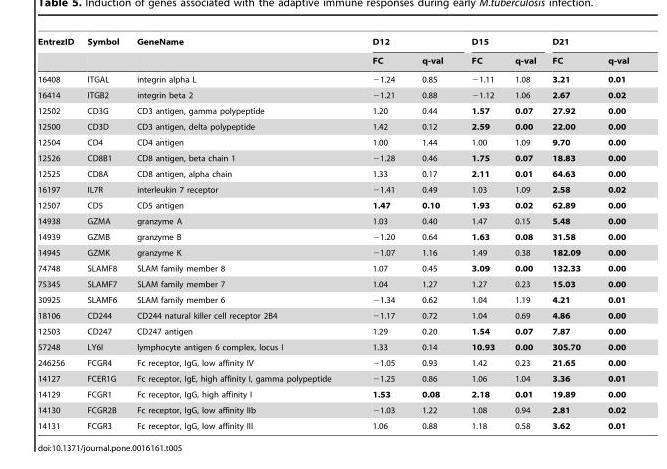table: (37, 37, 628, 430)
table column: (127, 37, 351, 430), (351, 37, 407, 430), (543, 37, 593, 430), (407, 37, 456, 430), (79, 37, 127, 430), (456, 37, 504, 430), (37, 37, 79, 430), (504, 37, 543, 430), (593, 37, 628, 430)
table column header: (37, 37, 628, 69)
table row: (37, 50, 628, 69), (37, 69, 628, 87), (37, 102, 628, 118), (37, 118, 628, 134), (37, 134, 628, 150), (37, 165, 628, 181), (37, 181, 628, 197), (37, 197, 628, 213), (37, 228, 628, 244), (37, 244, 628, 260), (37, 260, 628, 276), (37, 291, 628, 307), (37, 307, 628, 323), (37, 323, 628, 339), (37, 354, 628, 370), (37, 370, 628, 386), (37, 401, 628, 417), (37, 87, 628, 102), (37, 150, 628, 165), (37, 213, 628, 228), (37, 276, 628, 291), (37, 339, 628, 354), (37, 386, 628, 401), (37, 37, 628, 50), (37, 417, 628, 430)
table spanning cell: (127, 37, 351, 69), (79, 37, 127, 69), (351, 37, 456, 50), (37, 37, 79, 69), (456, 37, 543, 50), (543, 37, 628, 50)
